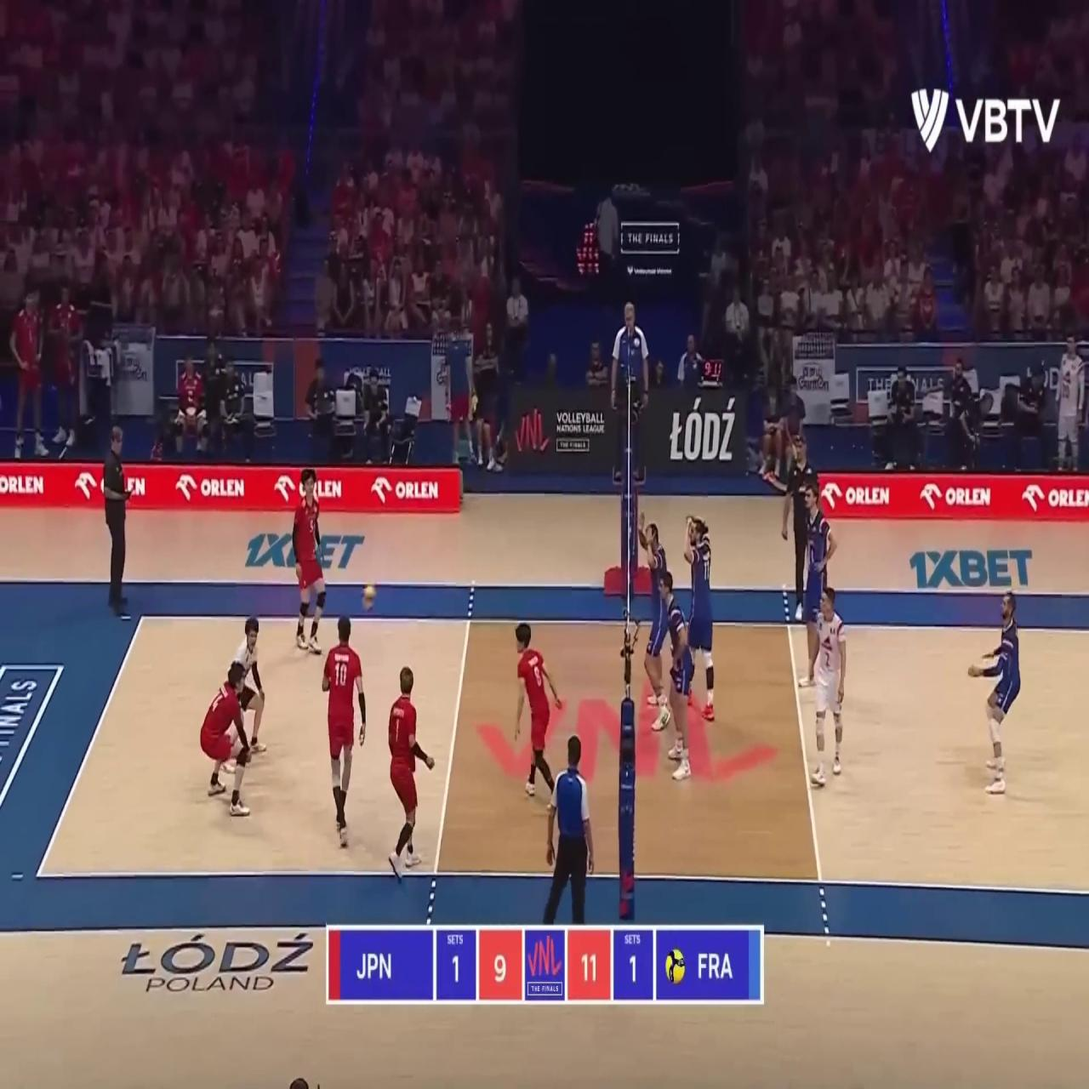ball: (362, 584, 376, 612)
